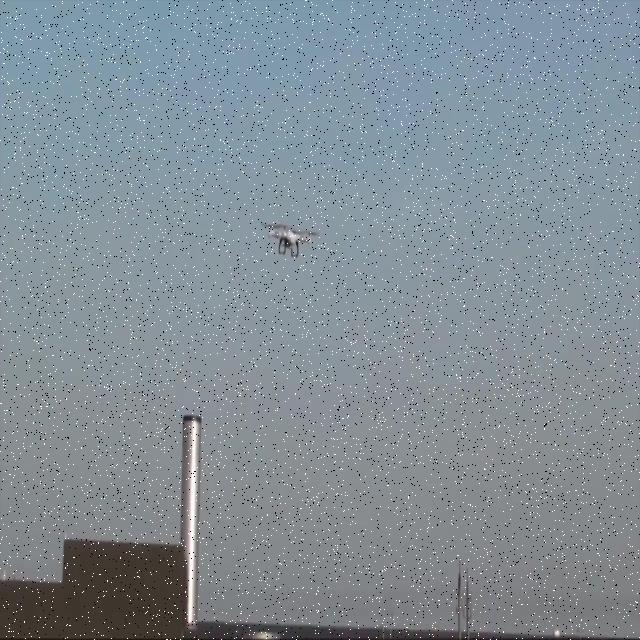UAV: (265, 220, 316, 260)
